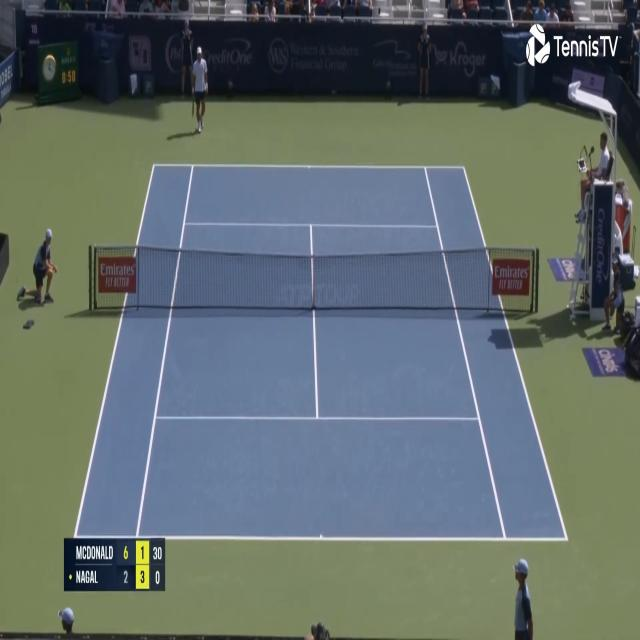tennis-player: (189, 43, 209, 135)
